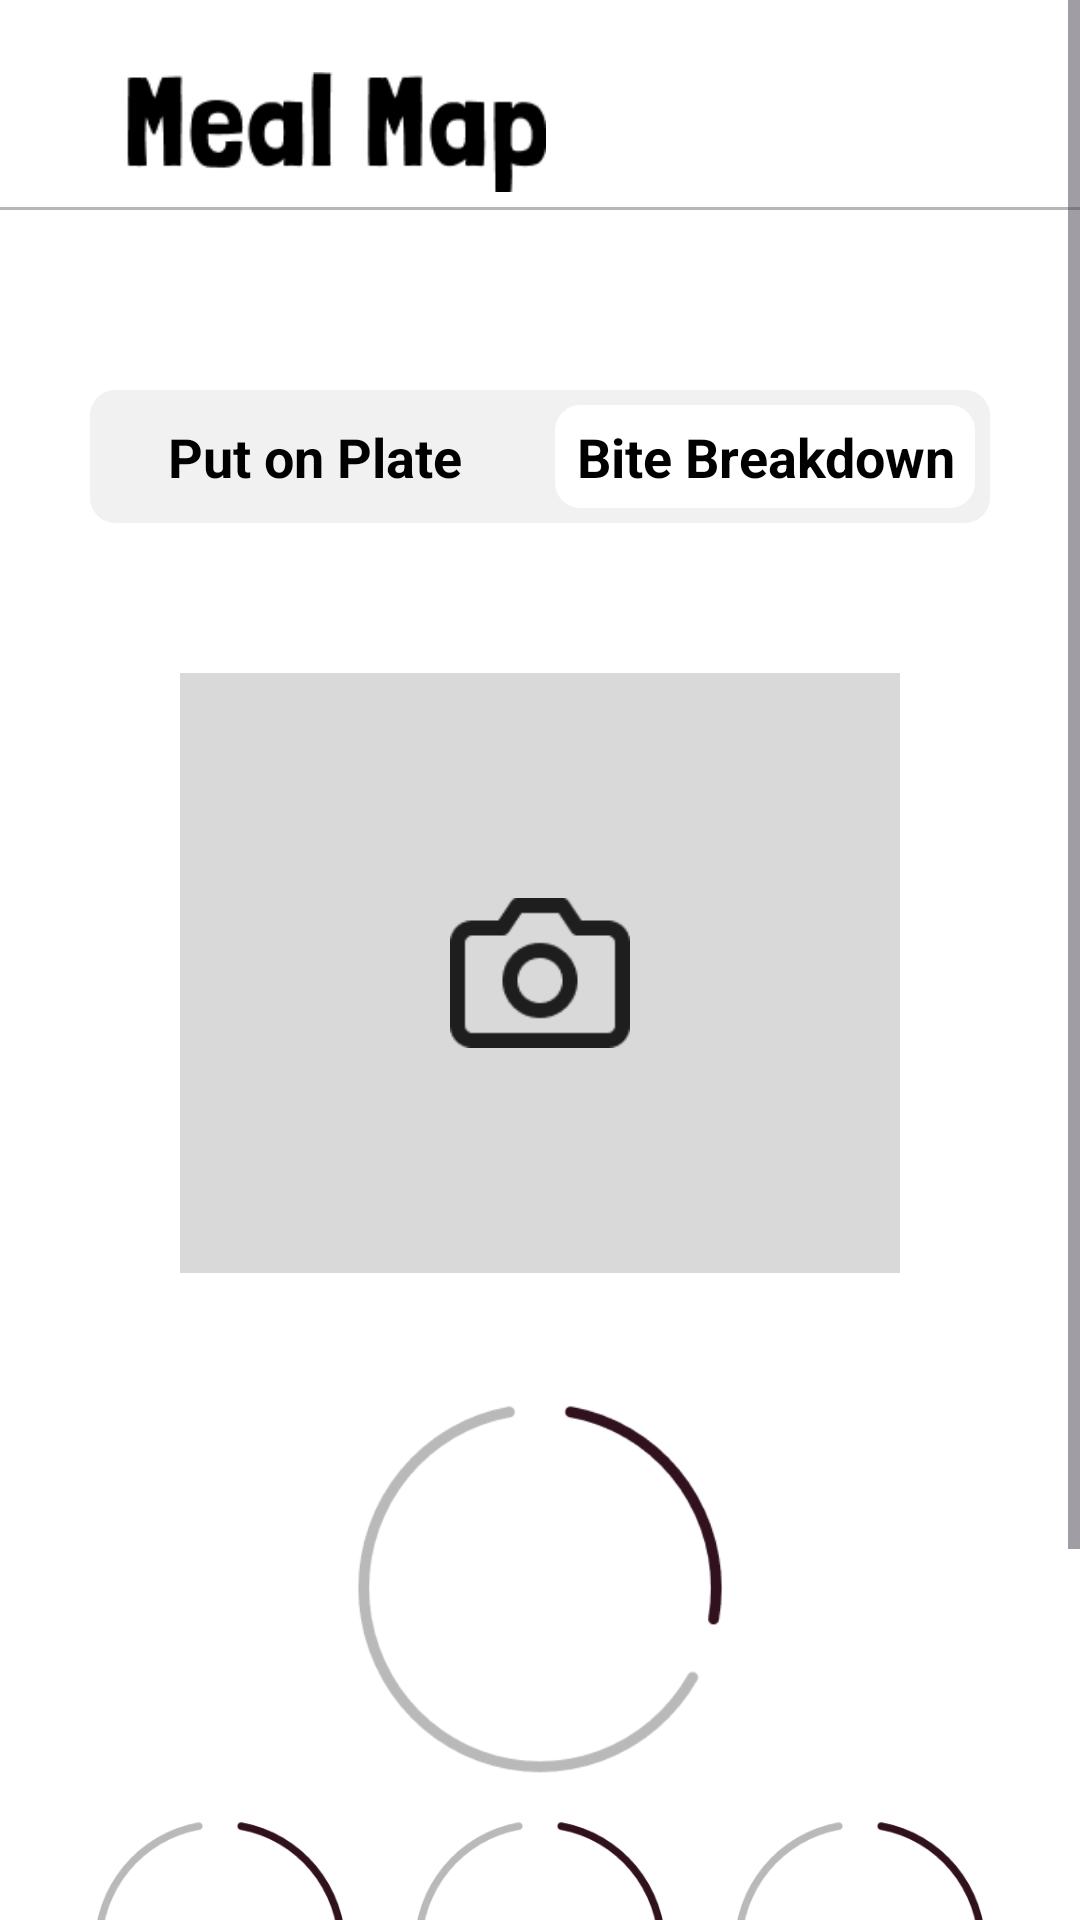

Where icons sit on this 1080×1920 app screen, as (x1, y1, x2, y2):
camera: (450, 898, 630, 1048)
